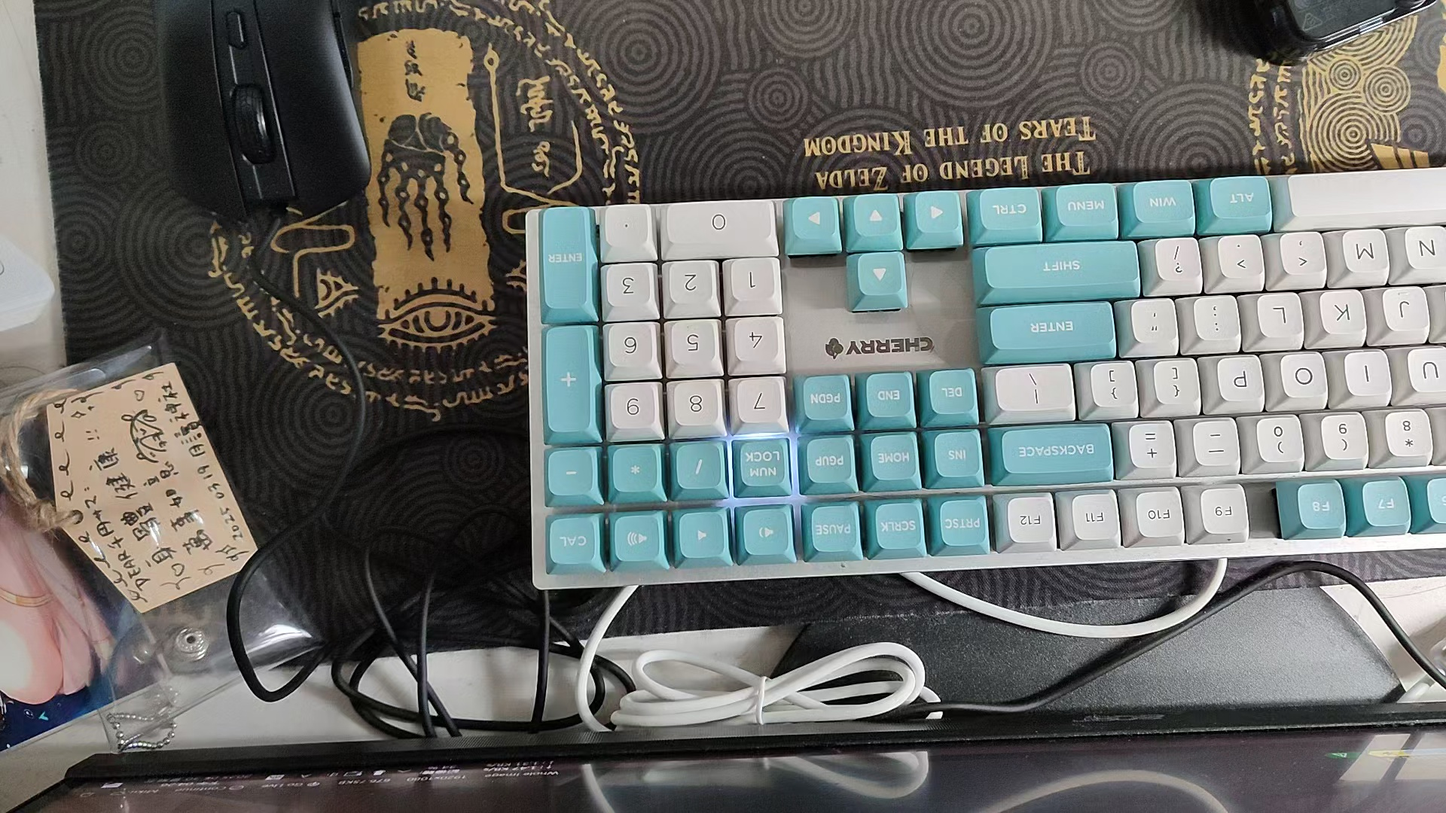Wireless_earphone: (1253, 0, 1441, 61)
